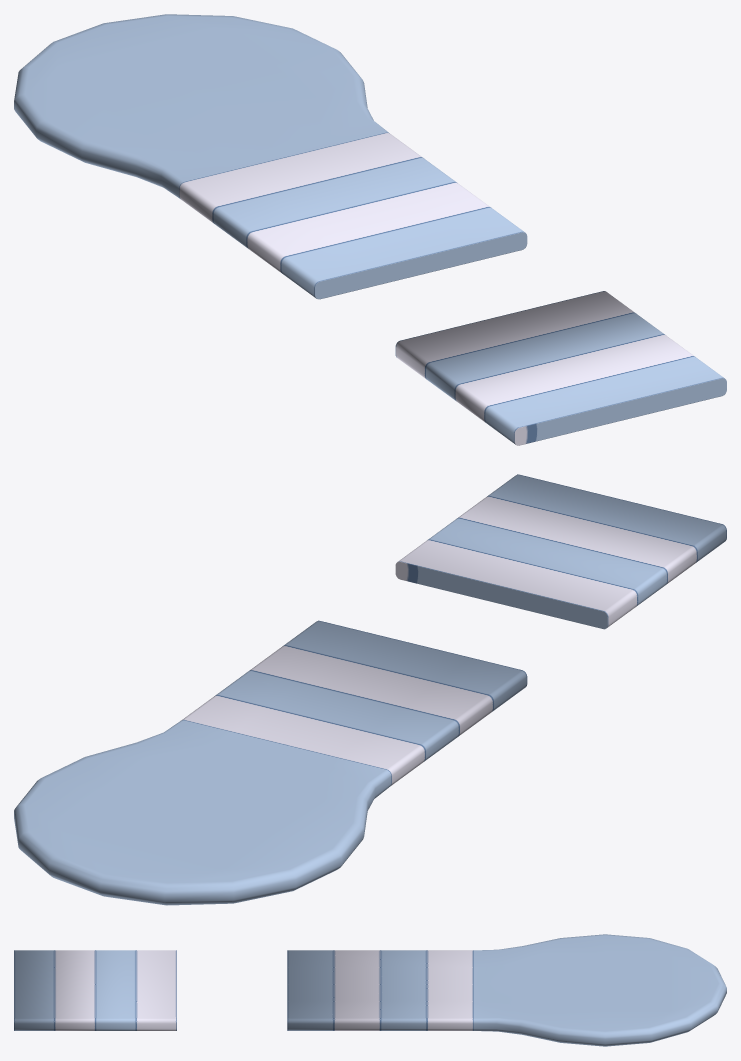
Rendered from Floor (1).fbx.
The picture shows the model from 3 angles, top to bottom: view 1: azimuth 30°, elevation 25°; view 2: azimuth 150°, elevation 25°; view 3: azimuth 270°, elevation 25°; orthographic projection. The views are drawn at different scales.
Visible parts, largest first — view 1: Roundcube.001, Roundcube; view 2: Roundcube.001, Roundcube; view 3: Roundcube.001, Roundcube.
Part boxes in pixels (x1,y1,x2,y2): Roundcube.001: (14,14,527,299); Roundcube: (395,291,726,445); Roundcube.001: (14,620,527,905); Roundcube: (395,474,726,629); Roundcube.001: (287,934,726,1046); Roundcube: (14,950,176,1030).
Size of the model in its own units: 1319 by 84.91 by 3894.
1 material, 1 textured.
